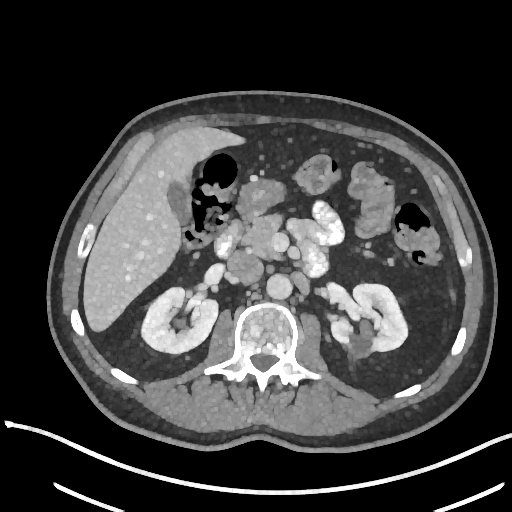Lesion: (344, 317, 375, 372)
